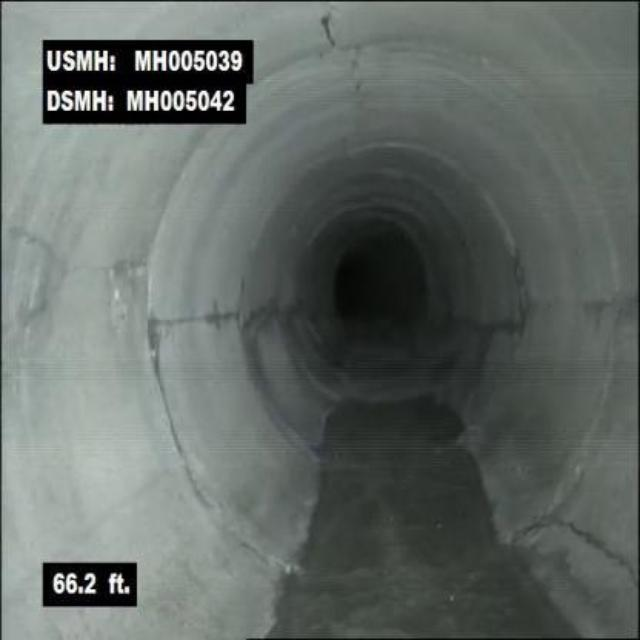Crack: (565, 518, 638, 609), (151, 300, 242, 337), (295, 3, 363, 49), (11, 222, 66, 277)
